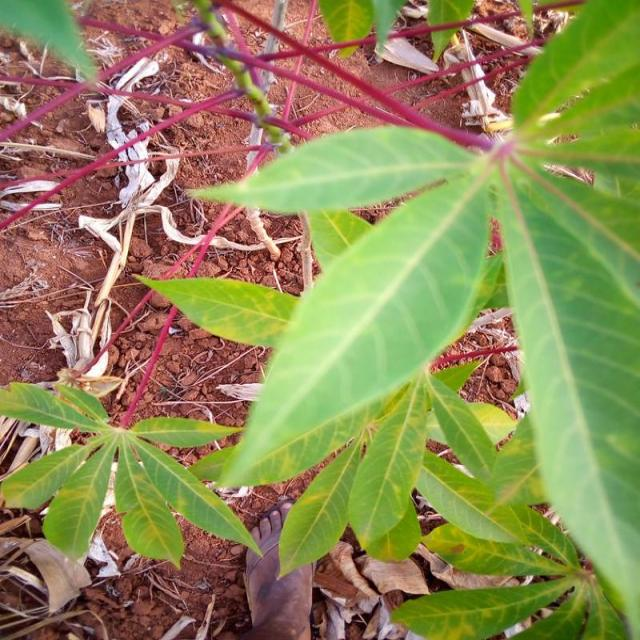cassava leaf: (211, 155, 495, 490), (494, 148, 639, 636), (183, 122, 482, 215)
